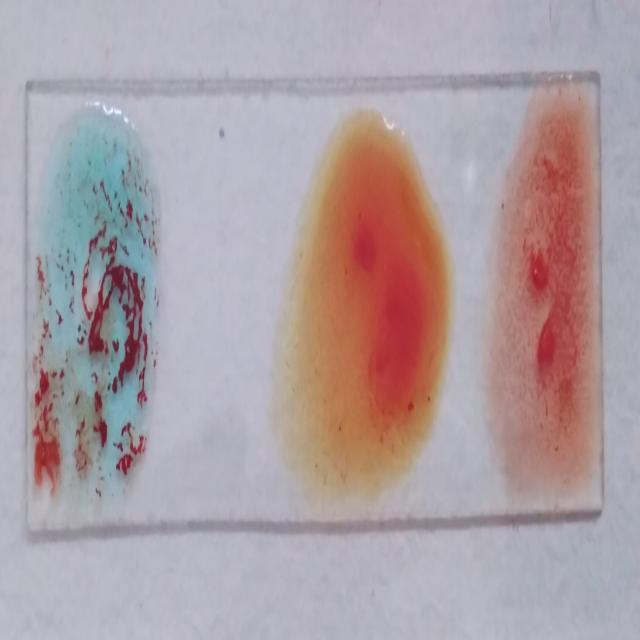A: (29, 106, 158, 514)
D: (496, 88, 596, 485)
